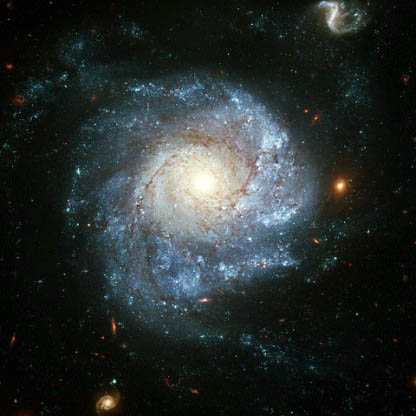NGC 1309: (52, 6, 380, 407)
